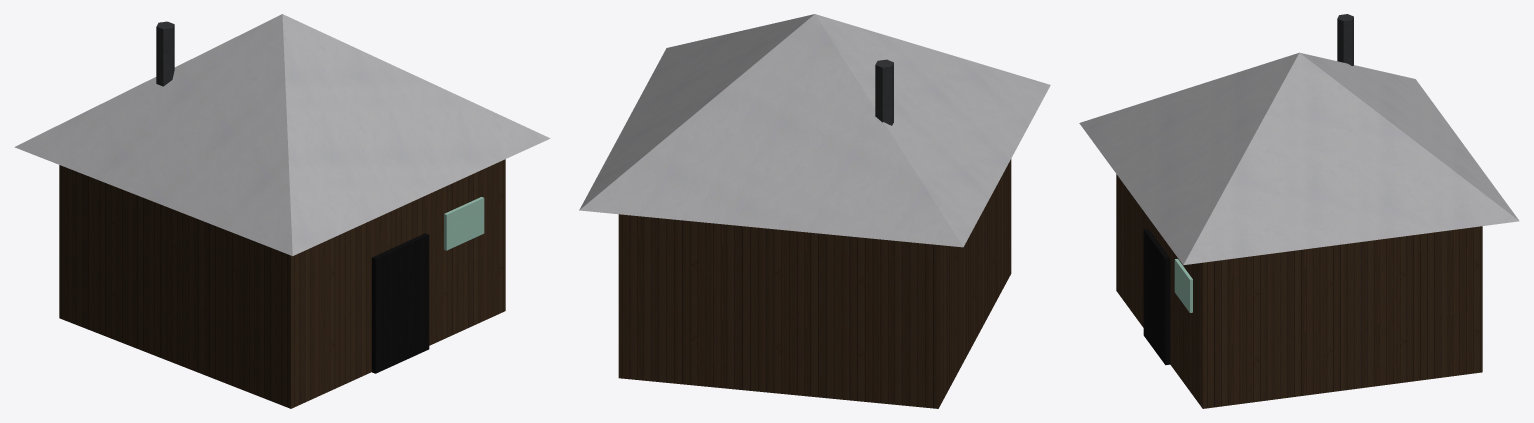
File: frost_hut_01.glb
3 views of the same model, side by side, from view 1: azimuth 30°, elevation 25°; view 2: azimuth 150°, elevation 25°; view 3: azimuth 270°, elevation 25° (orthographic). The views are drawn at different scales.
Parts seen in each view (by area): view 1: frost_hut_01; view 2: frost_hut_01; view 3: frost_hut_01.
Boxes of the visible parts, box(x1,y1,x2,y2) form: frost_hut_01: box(14, 14, 550, 408); frost_hut_01: box(579, 14, 1050, 408); frost_hut_01: box(1079, 14, 1519, 408).
Bounding box in the file's own units: 6.01 × 4.2 × 6.01.
5 materials, 5 textured.
